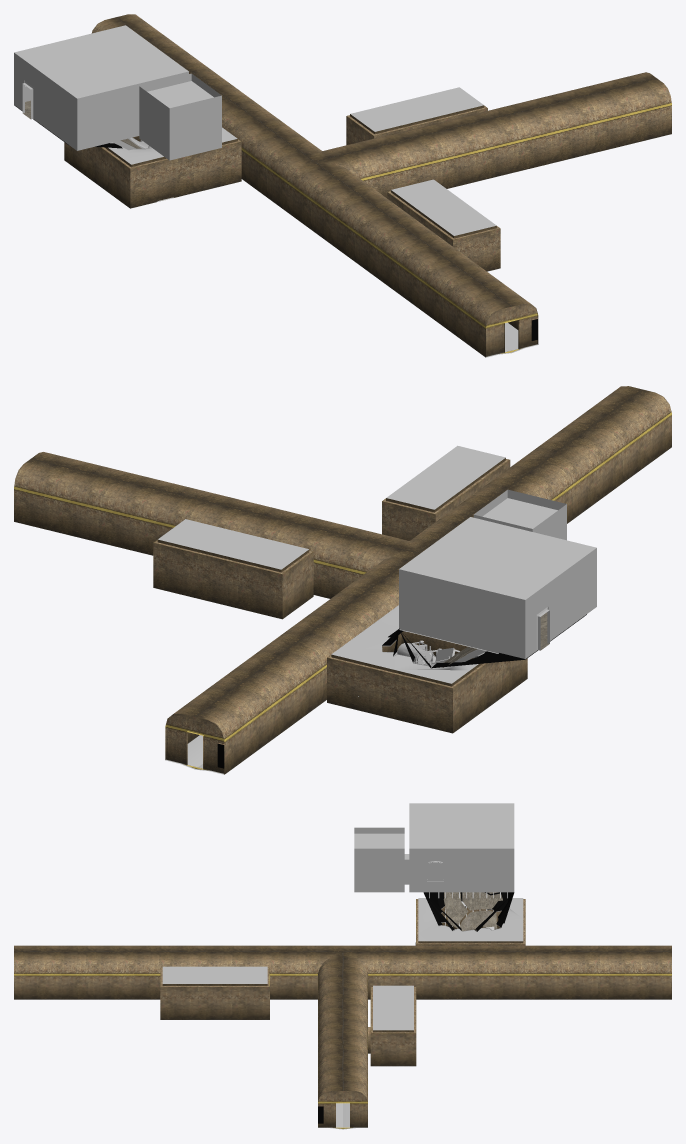
File: TunnelSpace_EnterRoom.FBX
The picture shows the model from 3 angles, top to bottom: view 1: azimuth 30°, elevation 25°; view 2: azimuth 150°, elevation 25°; view 3: azimuth 270°, elevation 25°; orthographic projection. The views are drawn at different scales.
Visible parts, largest first — view 1: TunnelSpace_EnterTunnels, TunnelSpace_EnterRoom; view 2: TunnelSpace_EnterTunnels, TunnelSpace_EnterRoom; view 3: TunnelSpace_EnterTunnels, TunnelSpace_EnterRoom.
Boxes of the visible parts, x1,y1,x2,y2 form: TunnelSpace_EnterTunnels: (91,14,671,357); TunnelSpace_EnterRoom: (14,25,241,208); TunnelSpace_EnterTunnels: (14,386,671,774); TunnelSpace_EnterRoom: (327,489,596,733); TunnelSpace_EnterTunnels: (14,945,671,1129); TunnelSpace_EnterRoom: (354,803,525,945).
Size of what is drawn, in the model's own units: 4488 by 1024 by 5669.
